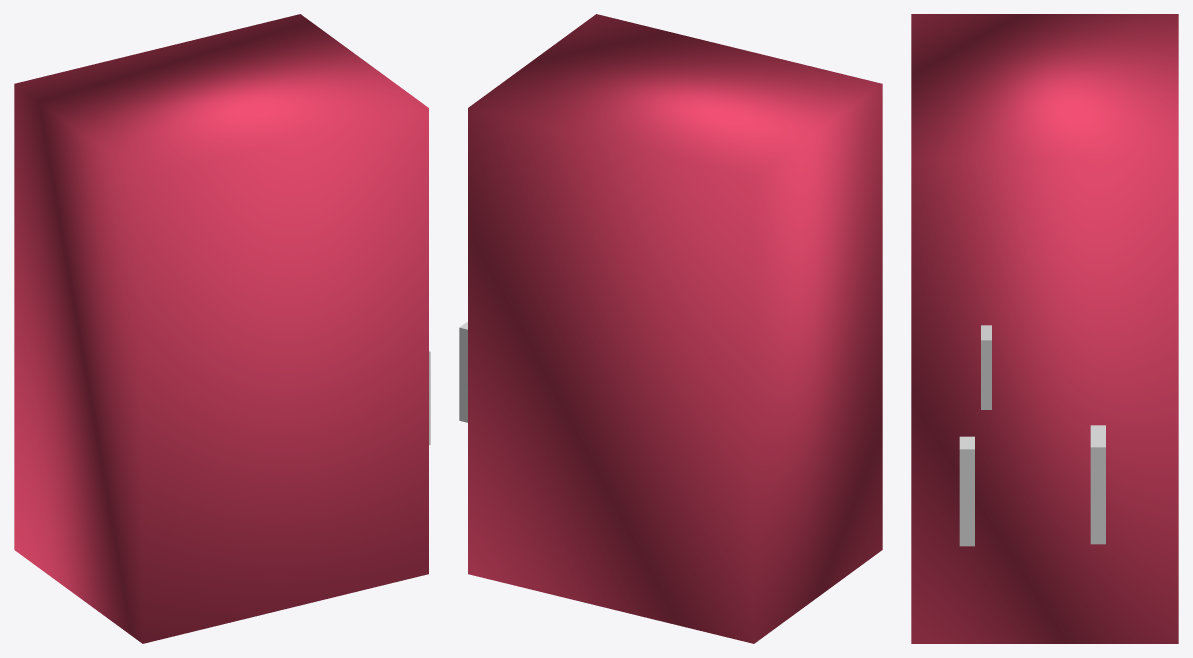
Rendered from cabinet.glb.
3 views of the same model, side by side, from view 1: azimuth 30°, elevation 25°; view 2: azimuth 150°, elevation 25°; view 3: azimuth 270°, elevation 25° (orthographic). The views are drawn at different scales.
Parts seen in each view (by area): view 1: Cube.011; view 2: Cube.011, Cube.014; view 3: Cube.011, Cube.014, Cube.015, Cube.013.
Boxes of the visible parts, box(x1,y1,x2,y2) form: Cube.011: box(14, 14, 428, 643); Cube.011: box(468, 14, 882, 643); Cube.014: box(459, 322, 467, 422); Cube.011: box(911, 14, 1178, 643); Cube.014: box(1090, 425, 1105, 544); Cube.015: box(959, 436, 974, 546); Cube.013: box(981, 325, 991, 409).
Size of the model in its own units: 1.44 by 1.95 by 0.9745.
